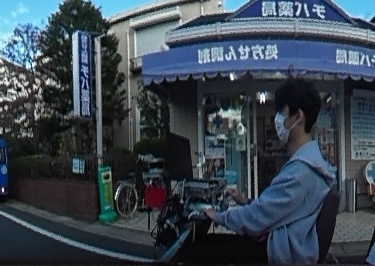person: (192, 73, 323, 266)
